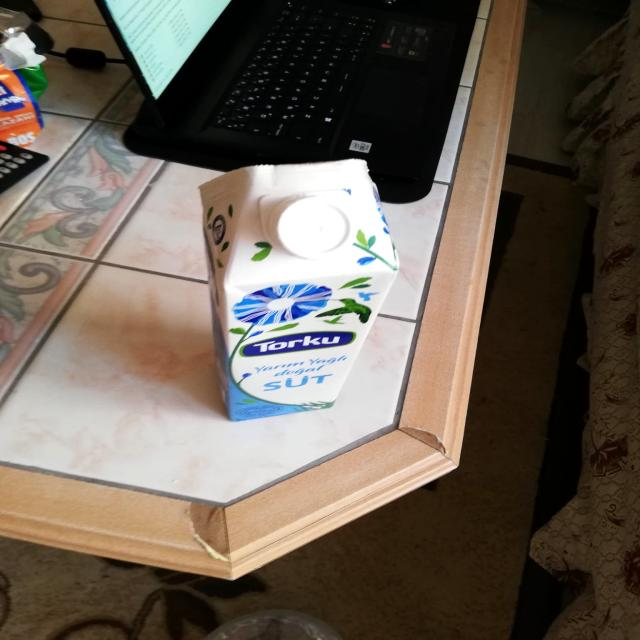milk: (176, 142, 408, 428)
